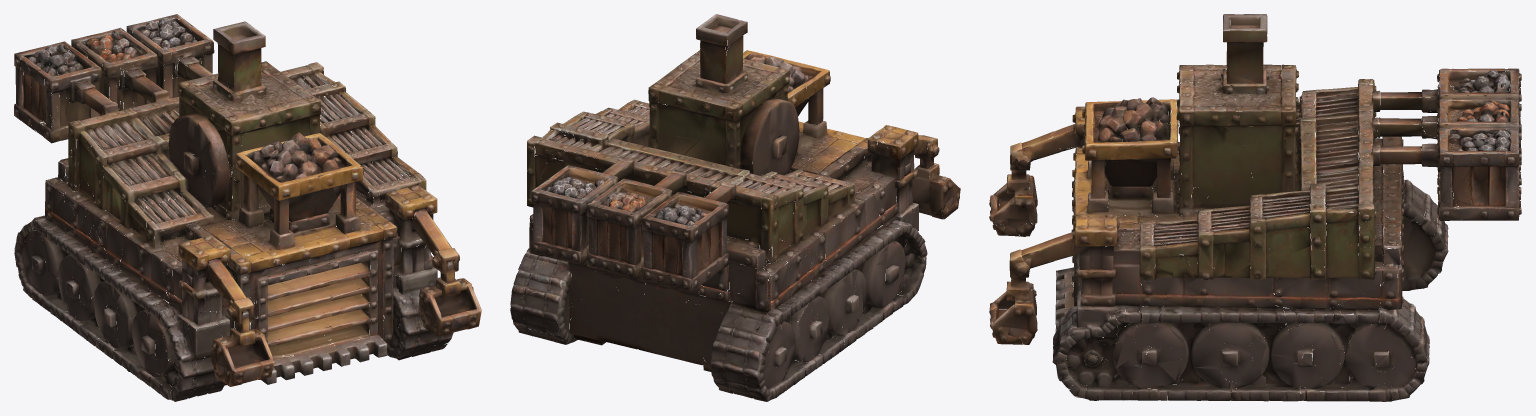
File: sorter.glb
3 renders of one model, left to right at view 1: azimuth 30°, elevation 25°; view 2: azimuth 150°, elevation 25°; view 3: azimuth 270°, elevation 25°, orthographic. The views are drawn at different scales.
Parts seen in each view (by area): view 1: tripo_node_c1543863-9262-4fe3-bb98-0850baae4803; view 2: tripo_node_c1543863-9262-4fe3-bb98-0850baae4803; view 3: tripo_node_c1543863-9262-4fe3-bb98-0850baae4803.
Boxes of the visible parts, bbox=[...] form: tripo_node_c1543863-9262-4fe3-bb98-0850baae4803: bbox=[14, 14, 481, 401]; tripo_node_c1543863-9262-4fe3-bb98-0850baae4803: bbox=[510, 14, 960, 401]; tripo_node_c1543863-9262-4fe3-bb98-0850baae4803: bbox=[989, 14, 1521, 401].
Size of the model in its own units: 0.6262 by 0.6355 by 0.979.
Materials: 1 (1 with a texture image).
